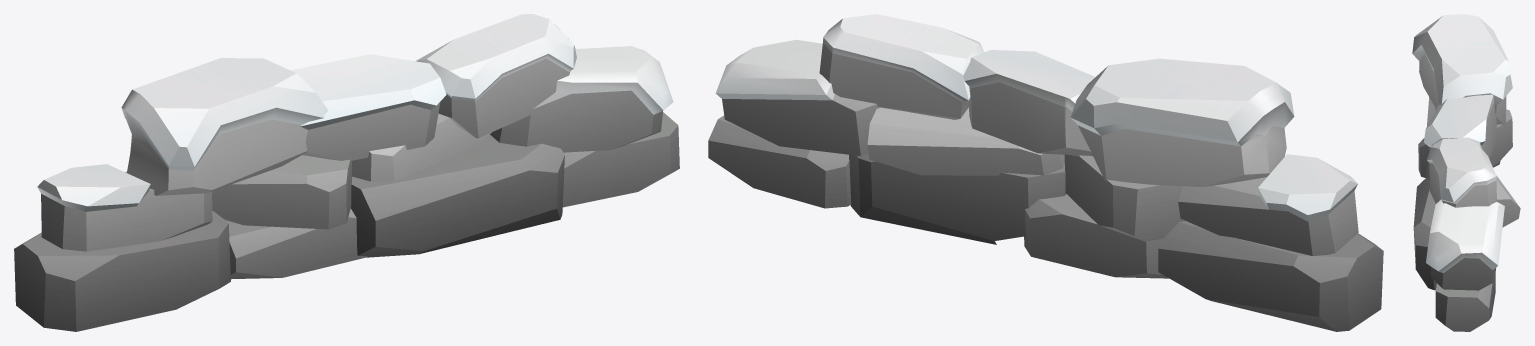
3 views of the same model, side by side, from view 1: azimuth 30°, elevation 25°; view 2: azimuth 150°, elevation 25°; view 3: azimuth 270°, elevation 25° (orthographic). The views are drawn at different scales.
Visible parts, largest first — view 1: SnowyOldStoneWall; view 2: SnowyOldStoneWall; view 3: SnowyOldStoneWall.
Boxes of the visible parts, <box> form: SnowyOldStoneWall: <box>14,14,679,331</box>; SnowyOldStoneWall: <box>708,14,1383,331</box>; SnowyOldStoneWall: <box>1412,14,1520,331</box>.
Bounding box in the file's own units: 120 × 36.33 × 25.38.
Materials: 1 (1 with a texture image).
